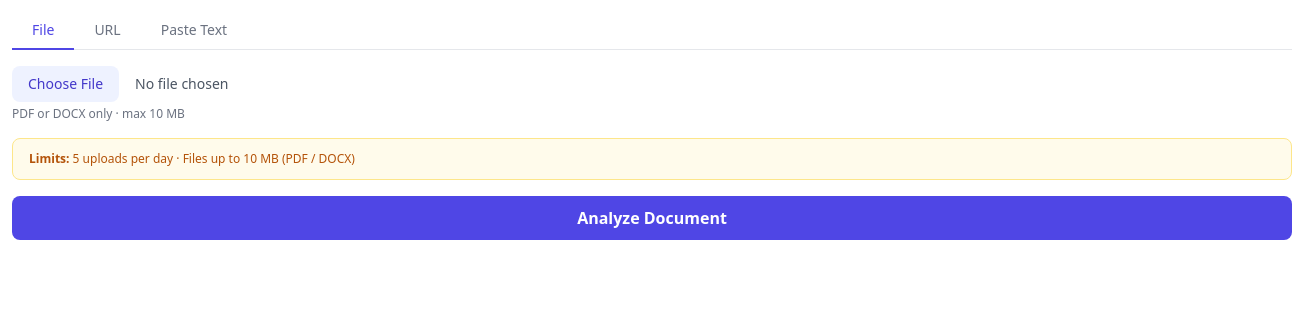
Test: shows error when no file selected and File tab submitted
The width and height of the screenshot is (1304, 325).
Click the button "Analyze Document": (652, 218) [12,196,1292,240]
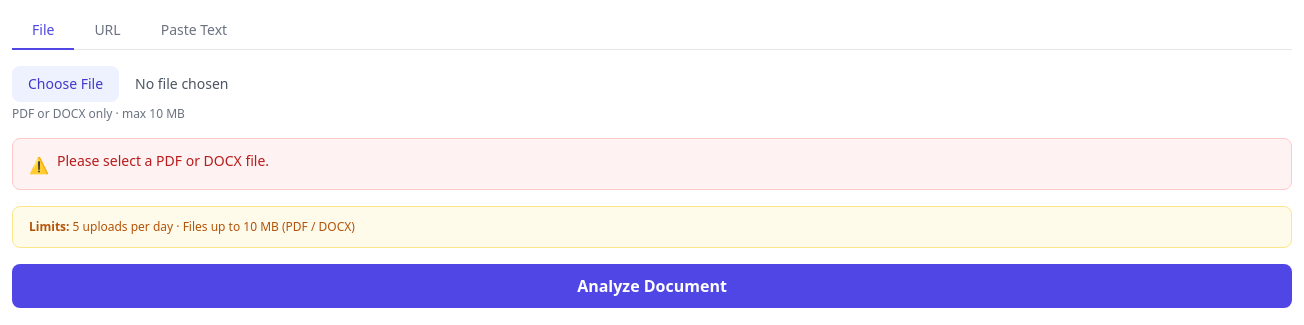
Expected: the message shows "select a PDF", [57,151,269,170]
